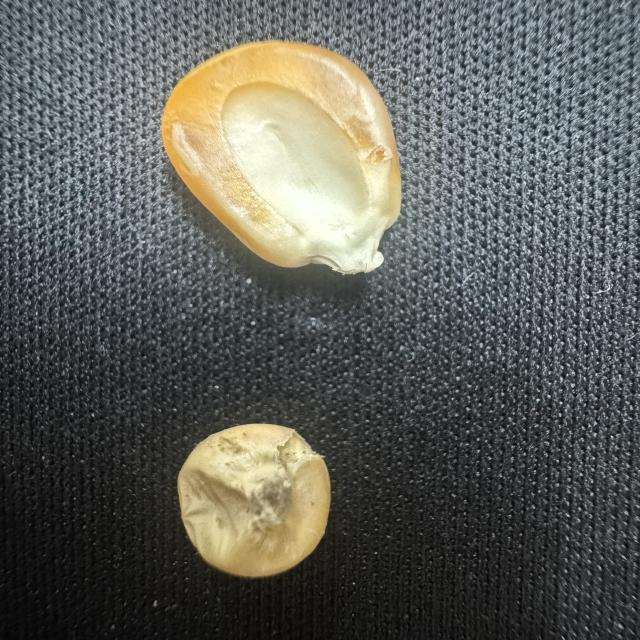Bad-Seed: (172, 419, 343, 582)
Good-Seed: (149, 34, 419, 281)
